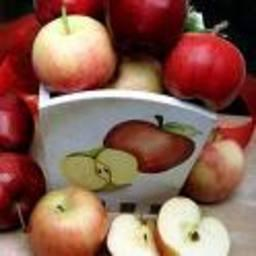apple: (32, 13, 116, 95), (160, 30, 245, 110), (26, 184, 109, 253), (181, 137, 244, 202), (104, 1, 188, 46)
